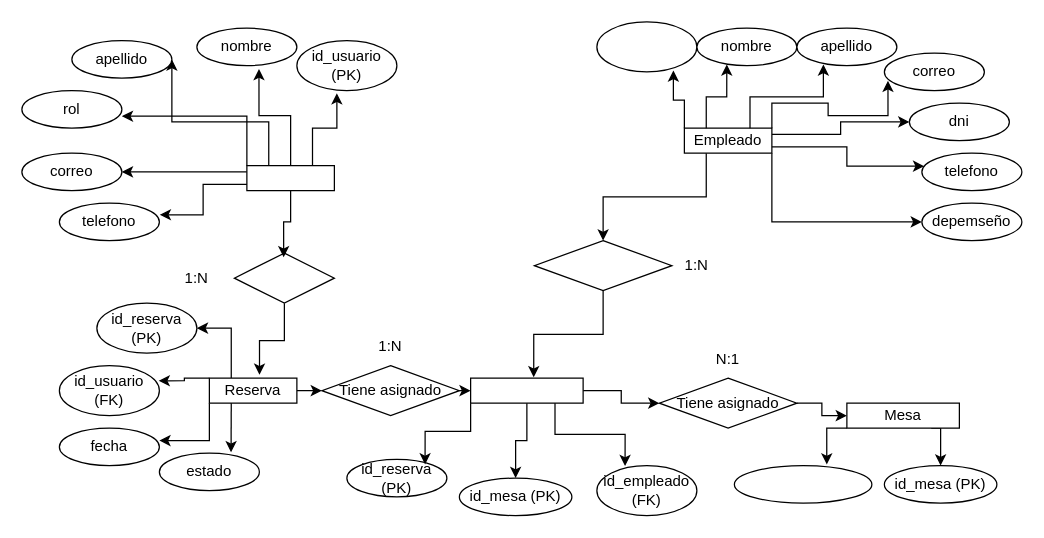
The diagram is 1044 pixels wide and 538 high, and some of its shapes have lost their labels. The shapes that lost their labels are listed below. From the top down, each one's box as (x1, y1, x2, y2) in pixels, then its label:
(596, 21, 697, 72): id_empleado (PK)
(246, 164, 334, 191): Usuario
(233, 252, 334, 303): Hace
(533, 239, 672, 291): Sirve
(469, 377, 583, 403): Reserva_mesa
(733, 464, 872, 503): cantidad_personas
